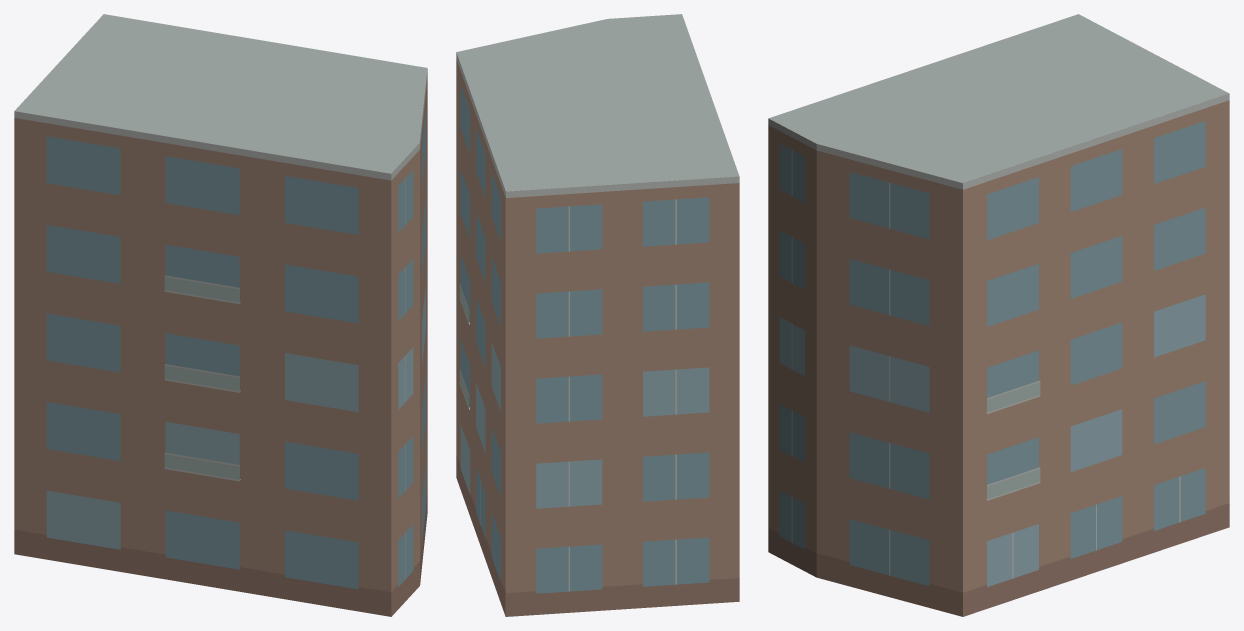
File: survey-upis-32596673.glb
3 views of the same model, side by side, from view 1: azimuth 30°, elevation 25°; view 2: azimuth 150°, elevation 25°; view 3: azimuth 270°, elevation 25° (orthographic). The views are drawn at different scales.
Parts seen in each view (by area): view 1: survey-upis-32596673.tmp; view 2: survey-upis-32596673.tmp; view 3: survey-upis-32596673.tmp.
Boxes of the visible parts, x1=… form: survey-upis-32596673.tmp: x1=14, y1=14, x2=427, y2=616; survey-upis-32596673.tmp: x1=456, y1=14, x2=739, y2=616; survey-upis-32596673.tmp: x1=768, y1=14, x2=1229, y2=616.
Size of the model in its own units: 13.46 by 16.07 by 15.5.
